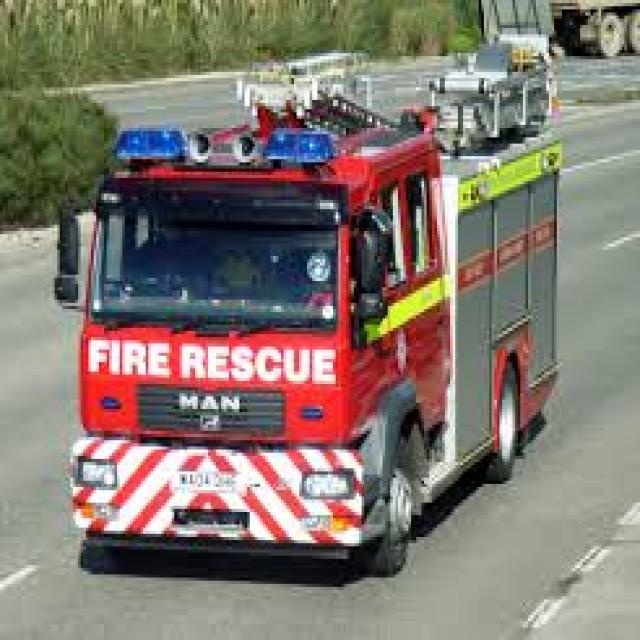Fire_brigade: (54, 41, 570, 571)
